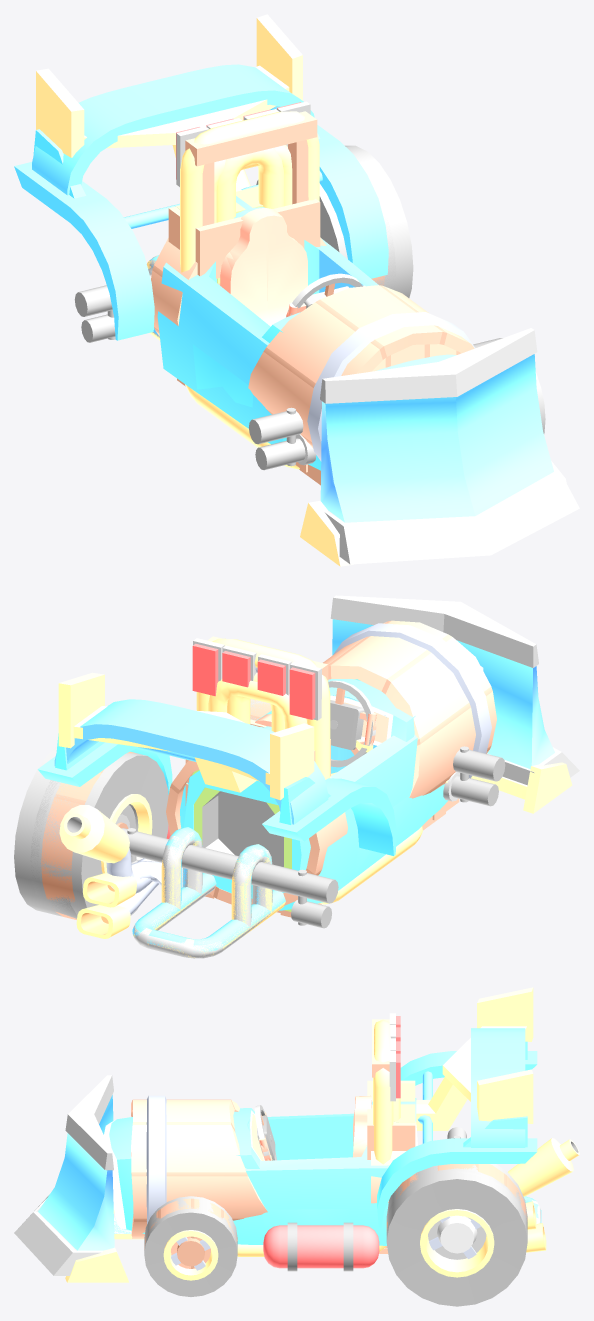
File: Car02.fbx
3 views of the same model, one above another, from view 1: azimuth 30°, elevation 25°; view 2: azimuth 150°, elevation 25°; view 3: azimuth 270°, elevation 25° (orthographic). The views are drawn at different scales.
Parts seen in each view (by area): view 1: Spoler Front 02a Blue, Spoler 02a Blue, Kuzov Sport Blue, Kuzov Bochka, Kuzov Wood, Spoler 01a Yallow, Kuzov Hlam 01a, Koleso Sport 2 Big Back, Kuzov Sport Car Blue, Spoler Front 01a Yallow, Most Big Front, Most Small Front (+4 smaller); view 2: Kuzov Bochka, Spoler 02a Blue, Kuzov Sport Blue, Spoler Front 02a Blue, Kuzov Hlam 01a, Koleso Sport 2 Big Back, Kuzov Wood, Spoler 01a Yallow, Kuzov Sport Car Blue, Most Big Back, Glushitel 01x2 Yellow, Glushitel 02 Yellow (+10 smaller); view 3: Koleso Sport 2 Big Back, Kuzov Bochka, Kuzov Sport Blue, Spoler Front 02a Blue, Spoler 02a Blue, Spoler 01a Yallow, Koleso Sport 2 Small Front, Kuzov Sport Car Blue, Zakis 01a, Kuzov Hlam 01a, Kuzov Wood, Glushitel 02 Yellow (+9 smaller).
Part boxes in pixels (x1,y1,x2,y2): Spoler Front 02a Blue: (320,328,579,564); Spoler 02a Blue: (14,64,388,340); Kuzov Sport Blue: (150,147,378,444); Kuzov Bochka: (148,109,475,461); Kuzov Wood: (151,101,320,485); Spoler 01a Yallow: (36,14,302,191); Kuzov Hlam 01a: (147,111,319,469); Koleso Sport 2 Big Back: (256,145,413,297); Kuzov Sport Car Blue: (187,145,456,470); Spoler Front 01a Yallow: (300,461,566,566); Most Big Front: (248,407,305,466); Most Small Front: (255,434,316,470); Kuzov Bochka: (133,620,496,958); Spoler 02a Blue: (37,699,396,855); Kuzov Sport Blue: (132,672,435,952); Spoler Front 02a Blue: (330,595,579,785); Kuzov Hlam 01a: (133,638,448,957); Koleso Sport 2 Big Back: (14,746,168,915); Kuzov Wood: (133,636,459,958); Spoler 01a Yallow: (58,672,314,800); Kuzov Sport Car Blue: (184,666,483,910); Most Big Back: (121,828,338,903); Glushitel 01x2 Yellow: (76,861,161,938); Glushitel 02 Yellow: (59,805,182,893); Koleso Sport 2 Big Back: (386,1164,527,1306); Kuzov Bochka: (131,1024,540,1238); Kuzov Sport Blue: (113,1096,541,1245); Spoler Front 02a Blue: (14,1075,131,1275); Spoler 02a Blue: (377,1028,537,1227); Spoler 01a Yallow: (416,987,533,1130); Koleso Sport 2 Small Front: (144,1196,237,1296); Kuzov Sport Car Blue: (104,1096,415,1233); Zakis 01a: (263,1222,379,1271); Kuzov Hlam 01a: (237,1019,537,1256); Kuzov Wood: (353,1013,540,1253); Glushitel 02 Yellow: (508,1138,579,1196).
Bounding box in the file's own units: 1.83 × 1.61 × 3.86.
